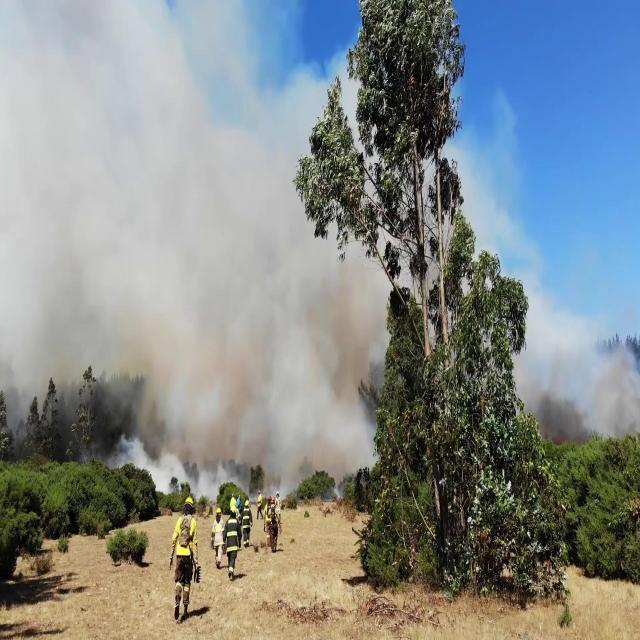Smoke: (0, 0, 359, 476), (504, 226, 640, 440)
